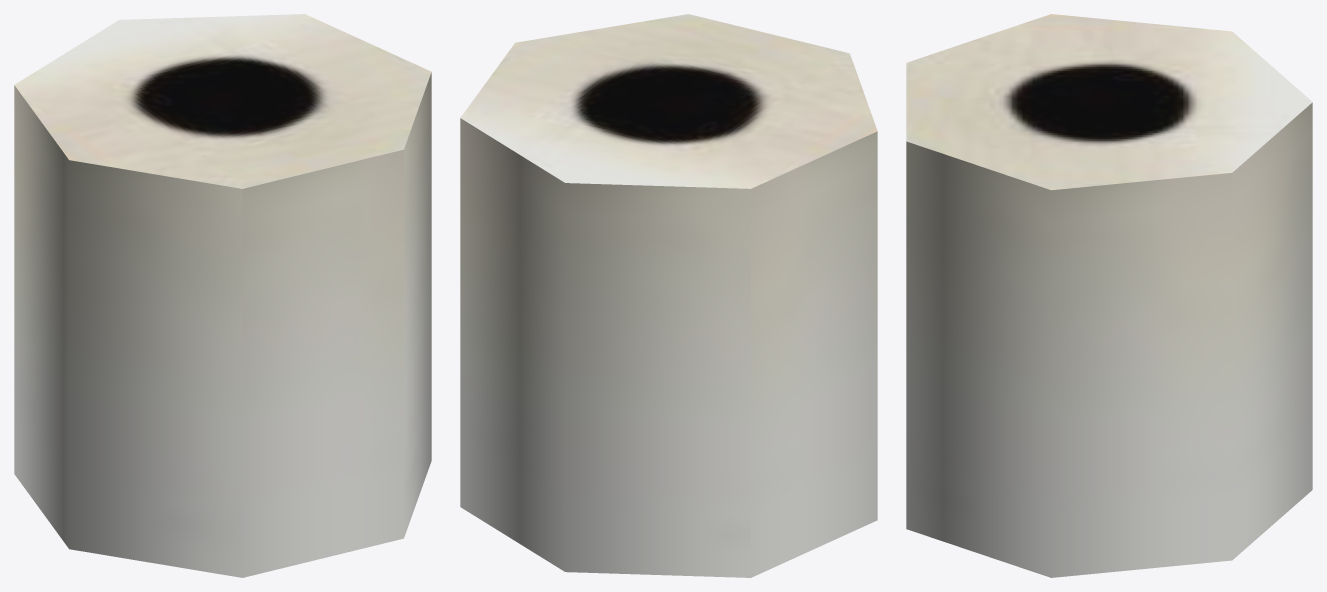
Rendered from Toilet_paper.glb.
3 views of the same model, side by side, from view 1: azimuth 30°, elevation 25°; view 2: azimuth 150°, elevation 25°; view 3: azimuth 270°, elevation 25° (orthographic).
Parts seen in each view (by area): view 1: Toilet_paper; view 2: Toilet_paper; view 3: Toilet_paper.
Boxes of the visible parts, left/top/right/bottom form: Toilet_paper: left=14, top=14, right=431, bottom=577; Toilet_paper: left=460, top=14, right=877, bottom=577; Toilet_paper: left=906, top=14, right=1312, bottom=577.
Size of the model in its own units: 0.1431 by 0.1467 by 0.1395.
Materials: 1 (1 with a texture image).
